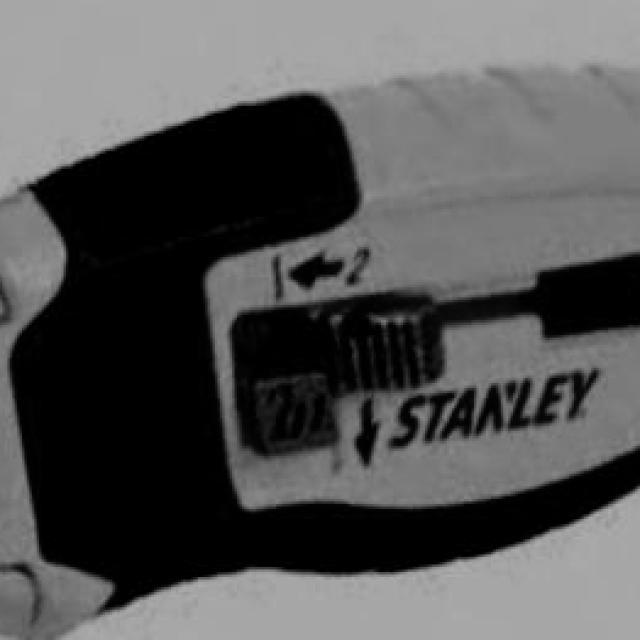estilete: (0, 67, 640, 640)
